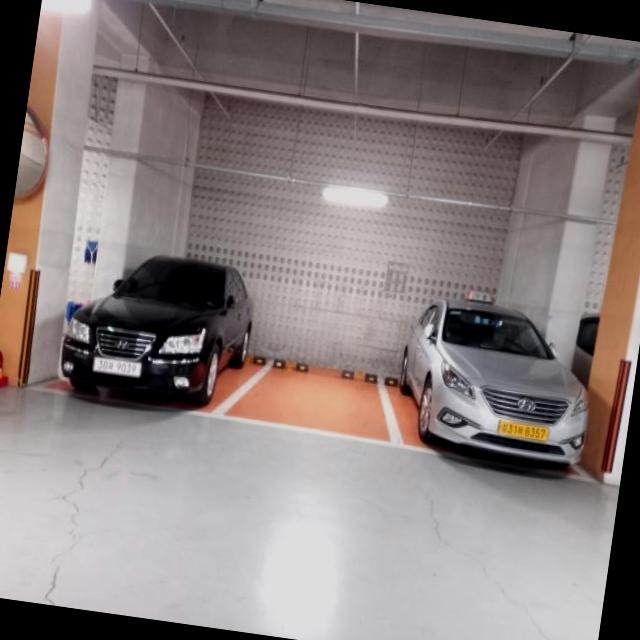car: (388, 279, 604, 478), (59, 240, 261, 420)
free: (242, 342, 405, 446)
